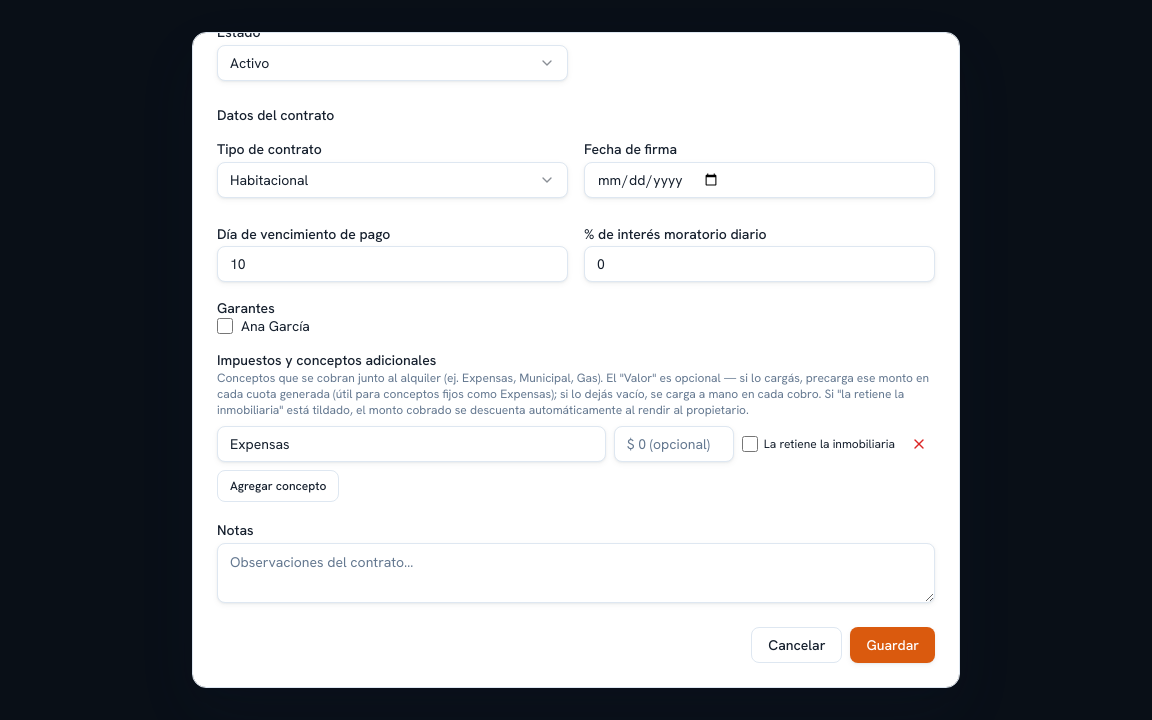
Scenario: CreateContractDialog › blocks submit and shows a validation error when required fields are empty
(page scrolled)
Click the button "Guardar": (893, 645) x1=850 y1=627 x2=935 y2=663
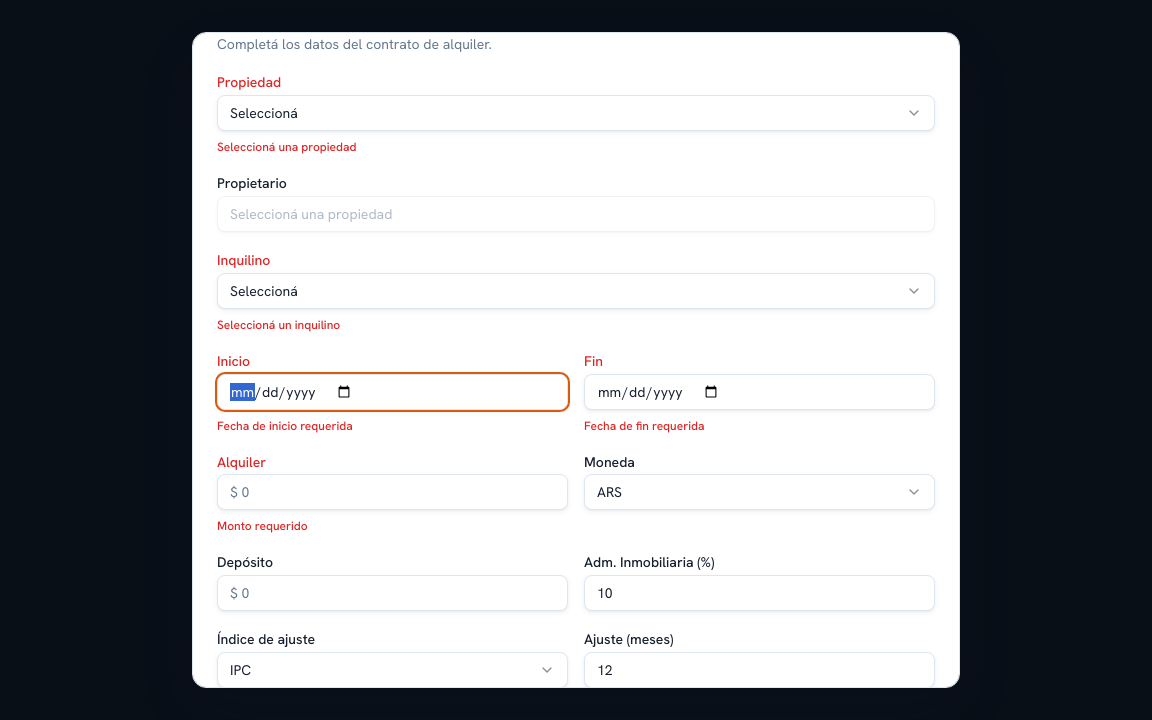
Result: the text "Seleccioná una propiedad" is shown at x1=217 y1=139 x2=357 y2=155
